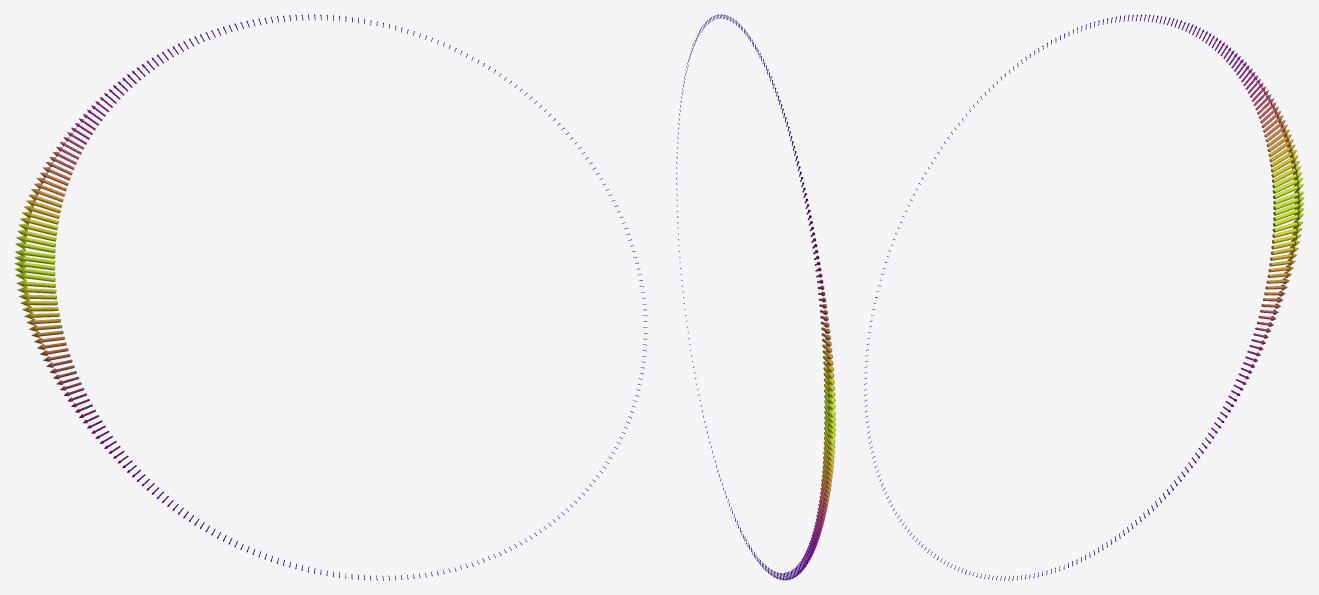
File: coil_1_forces.gltf
3 views of the same model, side by side, from view 1: azimuth 30°, elevation 25°; view 2: azimuth 150°, elevation 25°; view 3: azimuth 270°, elevation 25° (orthographic). The views are drawn at different scales.
Parts seen in each view (by area): view 1: Renderer Node; view 2: Renderer Node; view 3: Renderer Node.
Part boxes in pixels (<box>): Renderer Node: <box>14,14,647,580</box>; Renderer Node: <box>676,14,835,580</box>; Renderer Node: <box>864,14,1304,580</box>.
Size of the model in its own units: 0.4587 by 0.6124 by 0.4553.
Materials: 1 (1 with a texture image).
